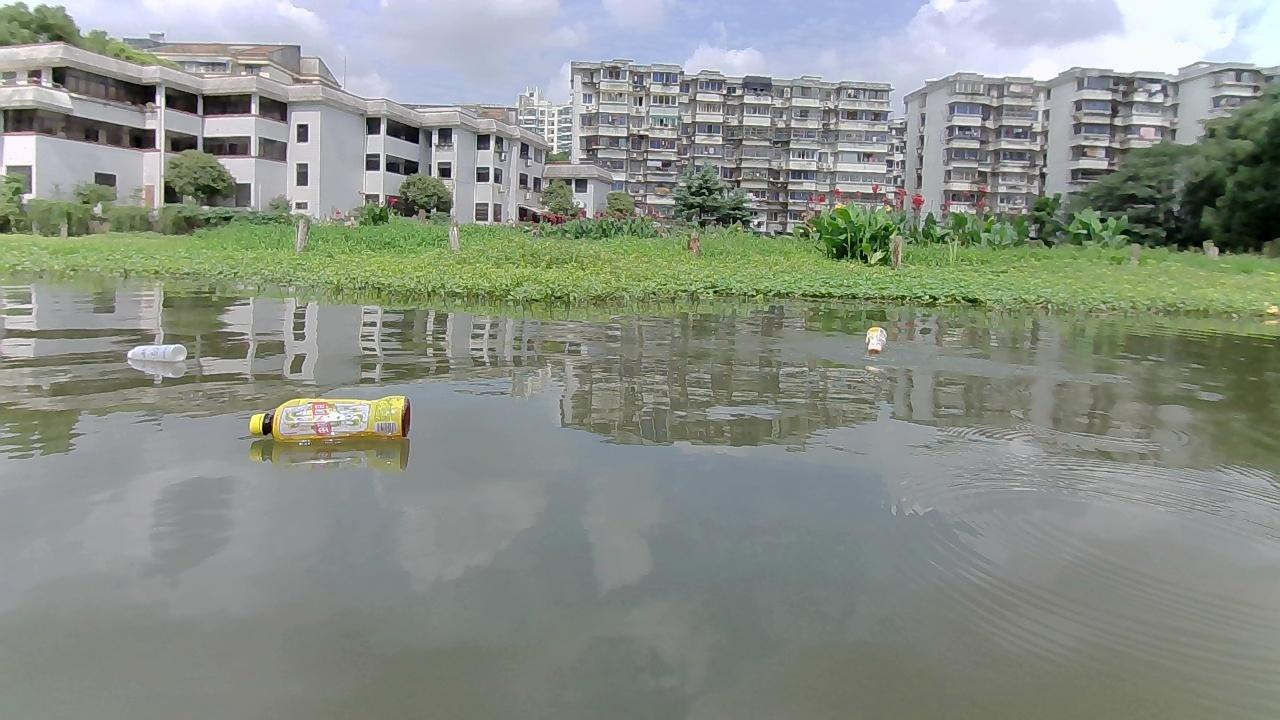bottle: (248, 394, 411, 441), (126, 343, 187, 361), (863, 326, 887, 352)
